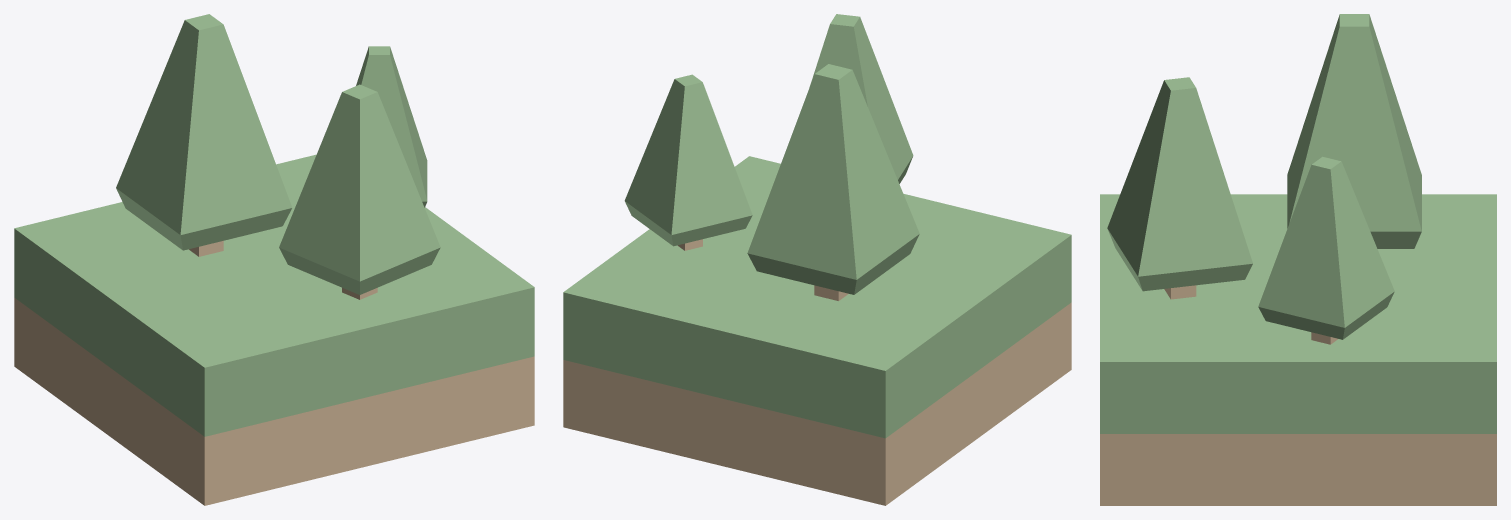
Rendered from tower-defense-classic--tile-062.glb.
3 views of the same model, side by side, from view 1: azimuth 30°, elevation 25°; view 2: azimuth 150°, elevation 25°; view 3: azimuth 270°, elevation 25° (orthographic). The views are drawn at different scales.
Parts seen in each view (by area): view 1: tile_062, Component#2 (×3); view 2: tile_062, Component#2 (×3); view 3: tile_062, Component#2 (×3).
Part boxes in pixels (left/top/right/bottom): tile_062: left=14, top=154, right=534, bottom=505; Component#2 (×3): left=116, top=14, right=440, bottom=299; tile_062: left=563, top=156, right=1071, bottom=505; Component#2 (×3): left=624, top=14, right=919, bottom=300; tile_062: left=1100, top=194, right=1496, bottom=505; Component#2 (×3): left=1107, top=14, right=1421, bottom=344.
Size of the model in its own units: 1.03 by 1.06 by 1.
